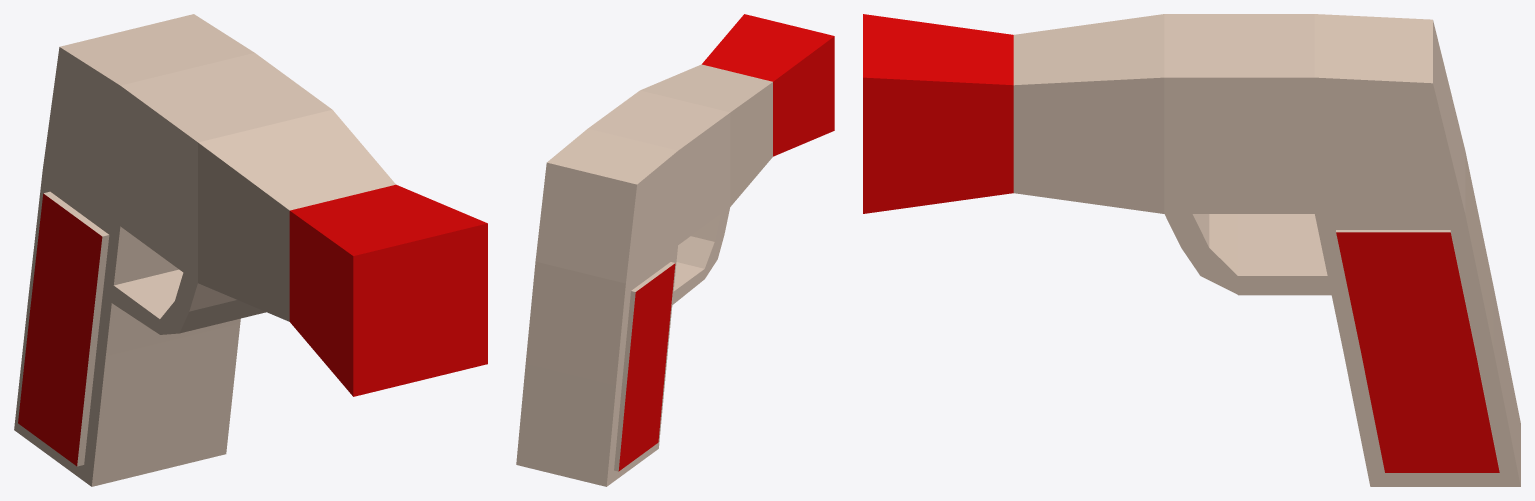
File: GrappleGun.fbx
3 renders of one model, left to right at view 1: azimuth 30°, elevation 25°; view 2: azimuth 150°, elevation 25°; view 3: azimuth 270°, elevation 25°, orthographic. The views are drawn at different scales.
Visible parts, largest first — view 1: Cube; view 2: Cube; view 3: Cube.
Part boxes in pixels (x1,y1,x2,y2): Cube: (14, 14, 487, 486); Cube: (516, 14, 834, 486); Cube: (863, 14, 1520, 486).
Bounding box in the file's own units: 217 × 600 × 874.
